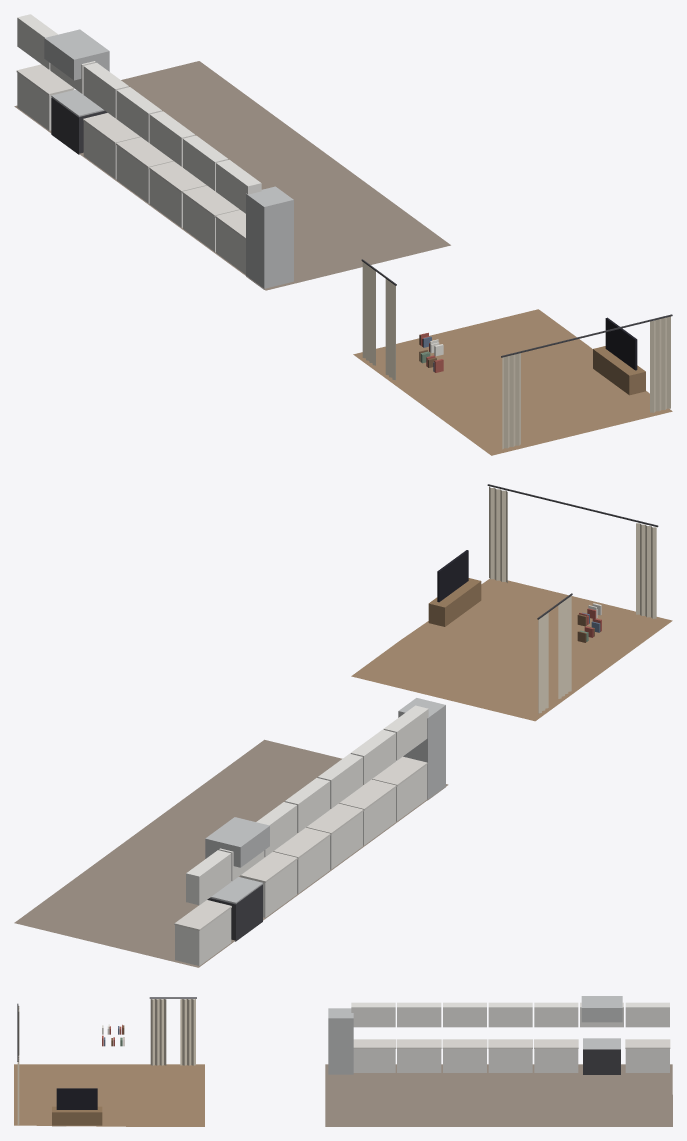
The model's file is fine-s1.glb.
The picture shows the model from 3 angles, top to bottom: view 1: azimuth 30°, elevation 25°; view 2: azimuth 150°, elevation 25°; view 3: azimuth 270°, elevation 25°; orthographic projection. The views are drawn at different scales.
Visible parts, largest first — view 1: soft-s1, fridge.000, range.000, tv-console.001, counter-run.000, counter-run.001, counter-run.003, counter-run.002, counter-run.004, counter-run.005, kitchen-upper.006, kitchen-upper.002 (+4 smaller); view 2: soft-s1, range.000, counter-run.000, tv-console.001, fridge.000, counter-run.001, counter-run.002, counter-run.003, counter-run.004, counter-run.005, kitchen-upper.000, kitchen-upper.005 (+4 smaller); view 3: soft-s1, range.000, tv-console.001, fridge.000, counter-run.000, counter-run.004, counter-run.001, counter-run.002, counter-run.003, counter-run.005, kitchen-upper.000, kitchen-upper.002 (+5 smaller).
Boxes of the visible parts, left/top/right/bottom form: soft-s1: left=14, top=61, right=672, bottom=455; fridge.000: left=246, top=186, right=293, bottom=289; range.000: left=44, top=29, right=109, bottom=154; tv-console.001: left=593, top=317, right=645, bottom=395; counter-run.000: left=16, top=64, right=74, bottom=130; counter-run.001: left=83, top=113, right=140, bottom=179; counter-run.003: left=149, top=161, right=206, bottom=227; counter-run.002: left=116, top=137, right=173, bottom=203; counter-run.004: left=182, top=185, right=239, bottom=251; counter-run.005: left=215, top=210, right=245, bottom=274; kitchen-upper.006: left=216, top=159, right=261, bottom=213; kitchen-upper.002: left=83, top=62, right=128, bottom=118; soft-s1: left=14, top=484, right=672, bottom=967; range.000: left=205, top=817, right=269, bottom=941; counter-run.000: left=174, top=900, right=231, bottom=965; tv-console.001: left=428, top=550, right=481, bottom=626; fridge.000: left=398, top=698, right=445, bottom=800; counter-run.001: left=240, top=852, right=297, bottom=917; counter-run.002: left=273, top=827, right=330, bottom=893; counter-run.003: left=306, top=803, right=363, bottom=869; counter-run.004: left=339, top=779, right=396, bottom=845; counter-run.005: left=372, top=756, right=427, bottom=821; kitchen-upper.000: left=186, top=850, right=231, bottom=905; kitchen-upper.005: left=350, top=729, right=395, bottom=784; soft-s1: left=14, top=997, right=672, bottom=1126; range.000: left=581, top=996, right=622, bottom=1074; tv-console.001: left=52, top=1088, right=102, bottom=1126; fridge.000: left=328, top=1008, right=353, bottom=1074; counter-run.000: left=625, top=1039, right=670, bottom=1072; counter-run.004: left=396, top=1039, right=441, bottom=1072; counter-run.001: left=534, top=1039, right=578, bottom=1072; counter-run.002: left=488, top=1039, right=532, bottom=1072; counter-run.003: left=442, top=1039, right=487, bottom=1072; counter-run.005: left=353, top=1039, right=395, bottom=1072; kitchen-upper.000: left=625, top=1002, right=669, bottom=1027; kitchen-upper.002: left=534, top=1002, right=578, bottom=1027.
Bounding box in the file's own units: 4.84 × 2.4 × 20.9.
